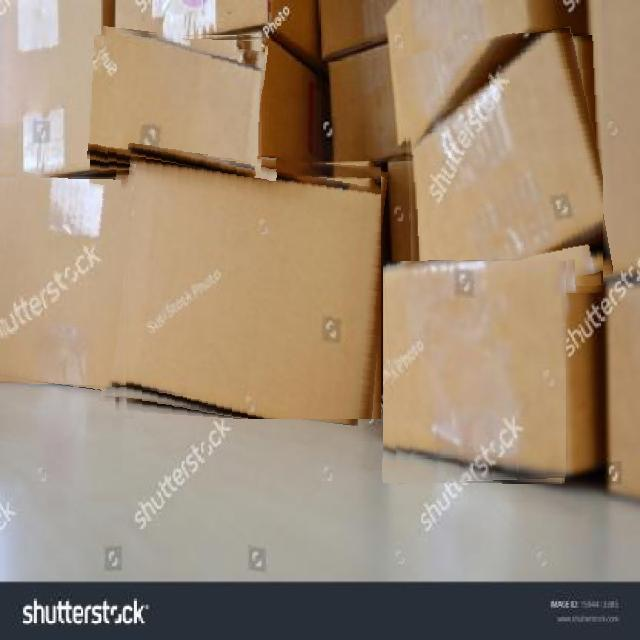BoxFace: (108, 149, 381, 419), (402, 33, 603, 298), (383, 261, 566, 484), (0, 174, 126, 387), (90, 31, 265, 174)
